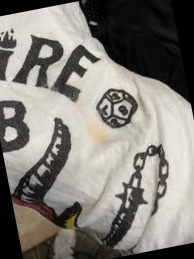mustard: (83, 121, 107, 151)
